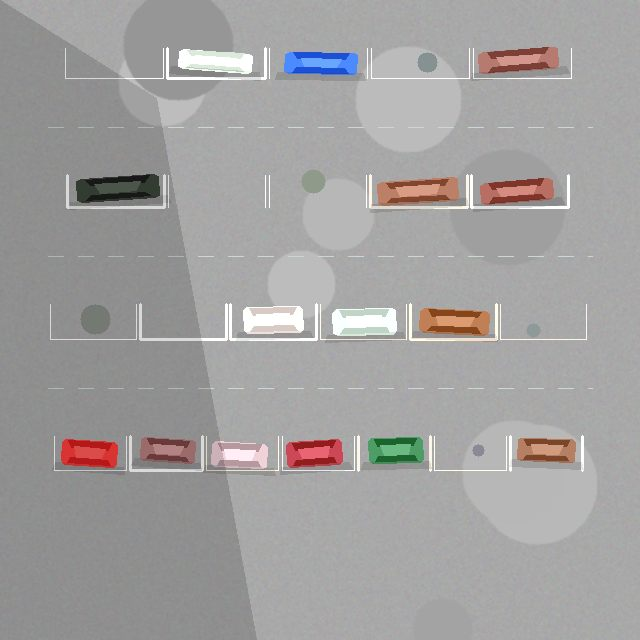space-empty: (168, 175, 265, 207), (269, 175, 366, 207), (50, 304, 136, 339), (140, 304, 226, 339), (500, 304, 586, 339), (65, 48, 163, 78), (371, 48, 469, 78), (434, 436, 506, 470)
space-occupied: (67, 175, 164, 207), (370, 175, 467, 207), (471, 175, 568, 207), (230, 304, 316, 339), (320, 304, 406, 339), (410, 304, 496, 339), (167, 48, 265, 78), (269, 48, 367, 78), (473, 48, 571, 78), (54, 436, 126, 470), (130, 436, 202, 470), (206, 436, 278, 470), (282, 436, 354, 470), (358, 436, 430, 470), (510, 436, 582, 470)
